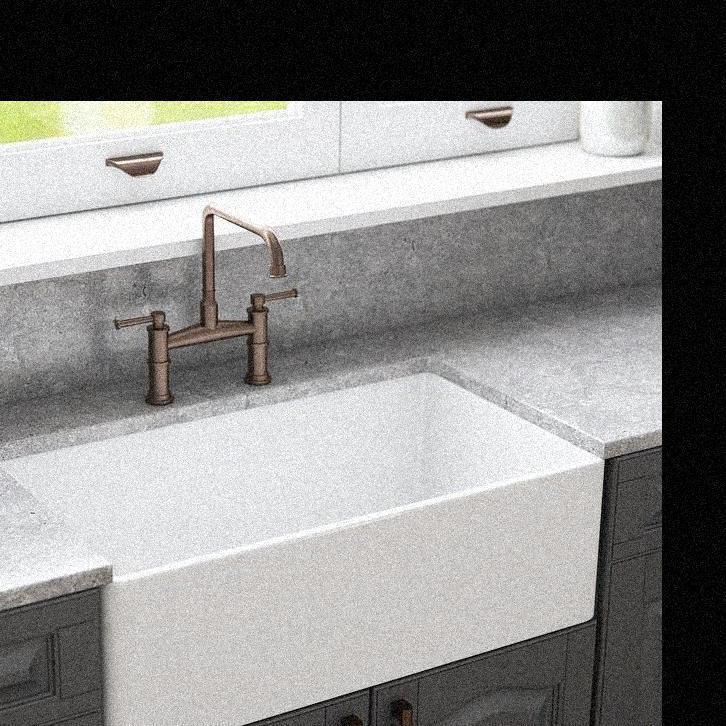Lavaplatos: (0, 217, 598, 726)
